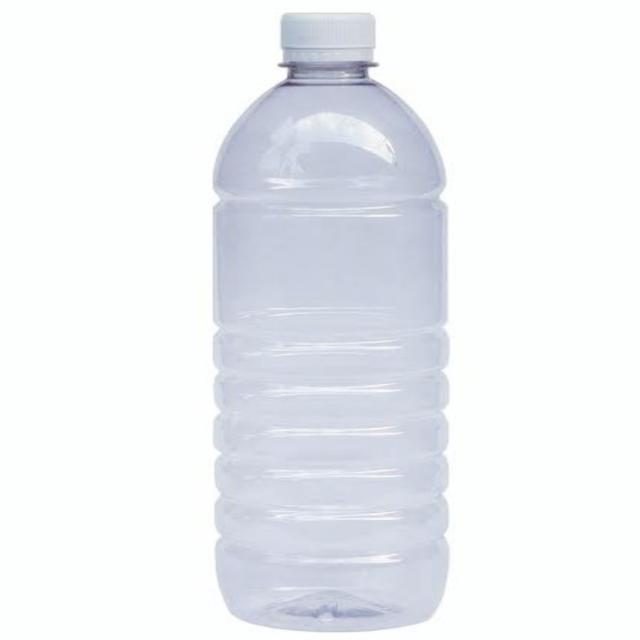recyclable: (175, 3, 520, 640)
